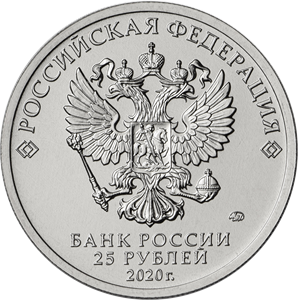coin: (1, 1, 298, 300)
